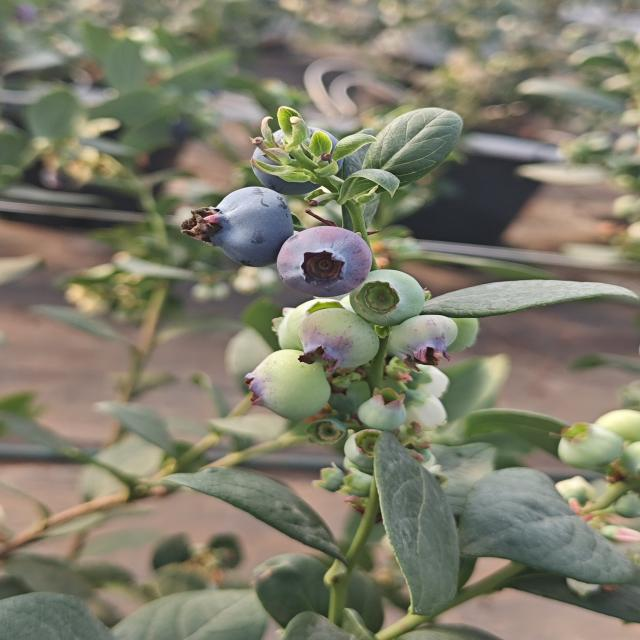ripe: (177, 181, 299, 270), (240, 119, 352, 198), (272, 222, 387, 298)
